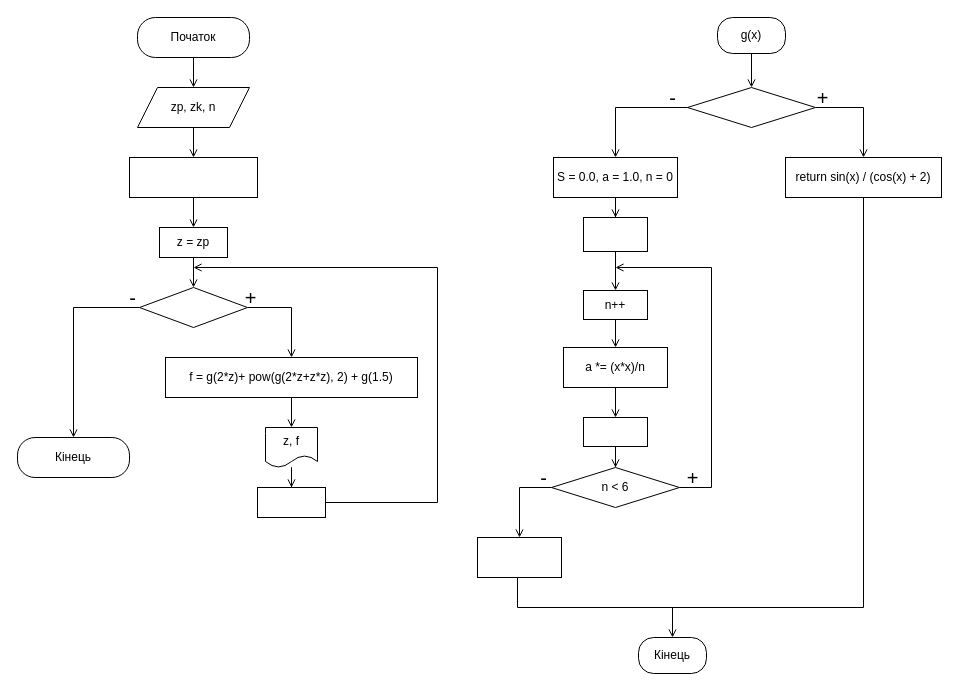
This 959x691 diagram has some shape labels left out. Here are the shapes that lost their labels. From the top down, the centre of each, then its label:
pixel 751 107: abs(x) >= 1
pixel 193 177: dz = (zk - zp) / n
pixel 615 234: S = a
pixel 193 307: z <= zk
pixel 615 431: S += a
pixel 291 502: z += dz
pixel 519 557: return S
